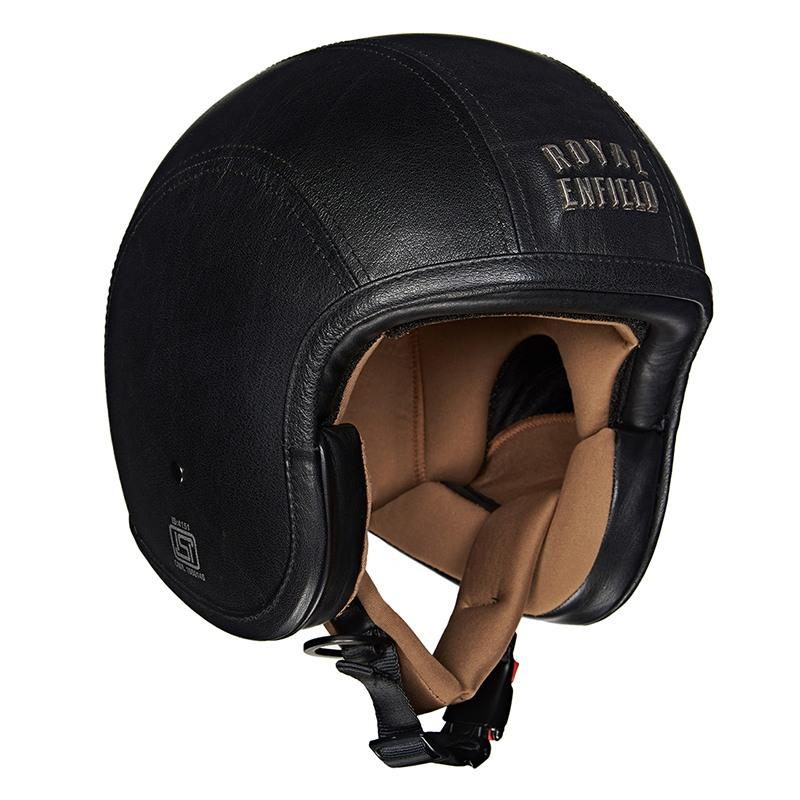helmet: (80, 26, 732, 748)
